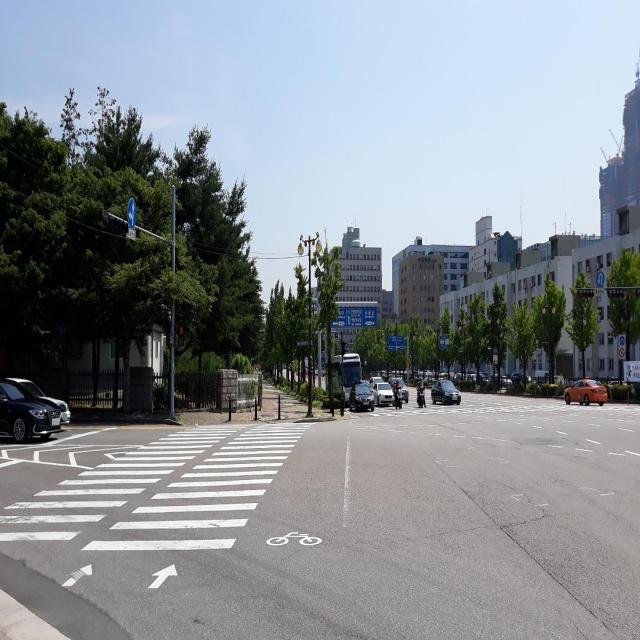횡단보도: (0, 421, 313, 592)
